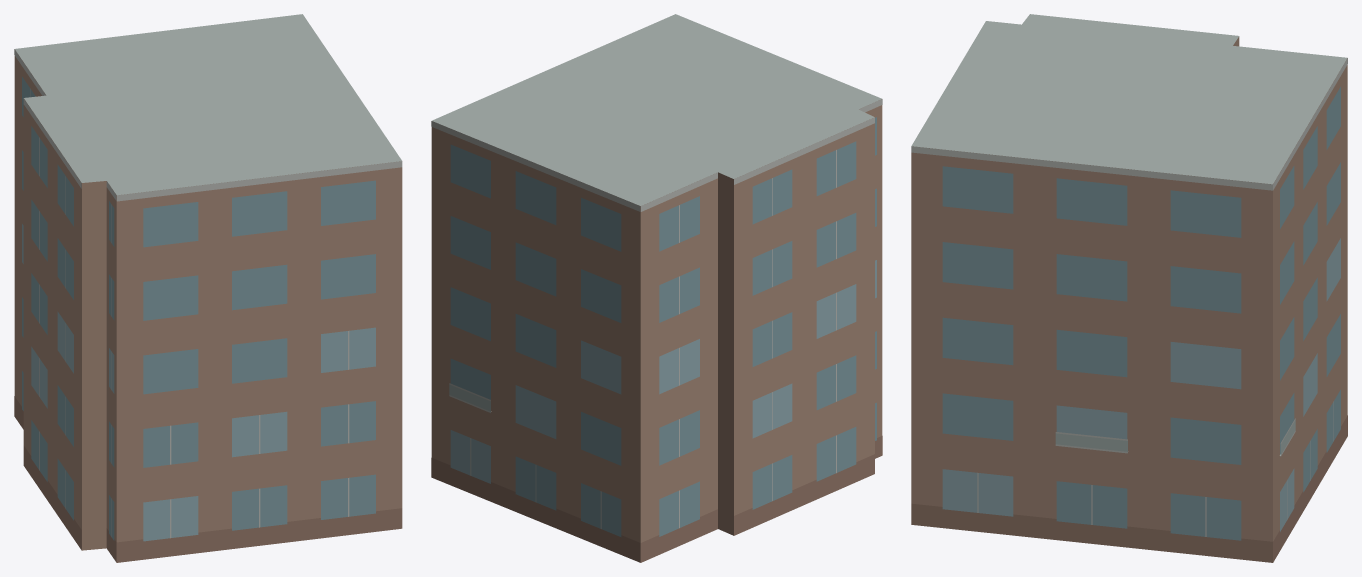
The model's file is survey-upis-32880940.glb.
3 renders of one model, left to right at view 1: azimuth 30°, elevation 25°; view 2: azimuth 150°, elevation 25°; view 3: azimuth 270°, elevation 25°, orthographic. The views are drawn at different scales.
Parts seen in each view (by area): view 1: survey-upis-32880940.tmp; view 2: survey-upis-32880940.tmp; view 3: survey-upis-32880940.tmp.
Part boxes in pixels (bbox=[...]): survey-upis-32880940.tmp: bbox=[14, 14, 402, 562]; survey-upis-32880940.tmp: bbox=[431, 14, 882, 562]; survey-upis-32880940.tmp: bbox=[911, 14, 1347, 562].
Size of the model in its own units: 14 by 14.5 by 15.16.
